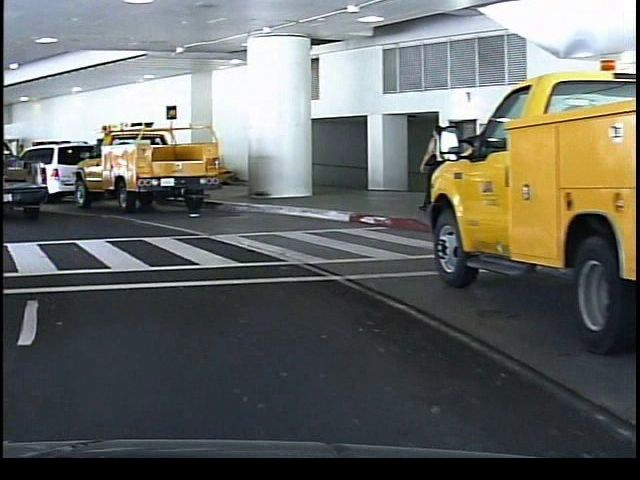person: (417, 117, 455, 226)
